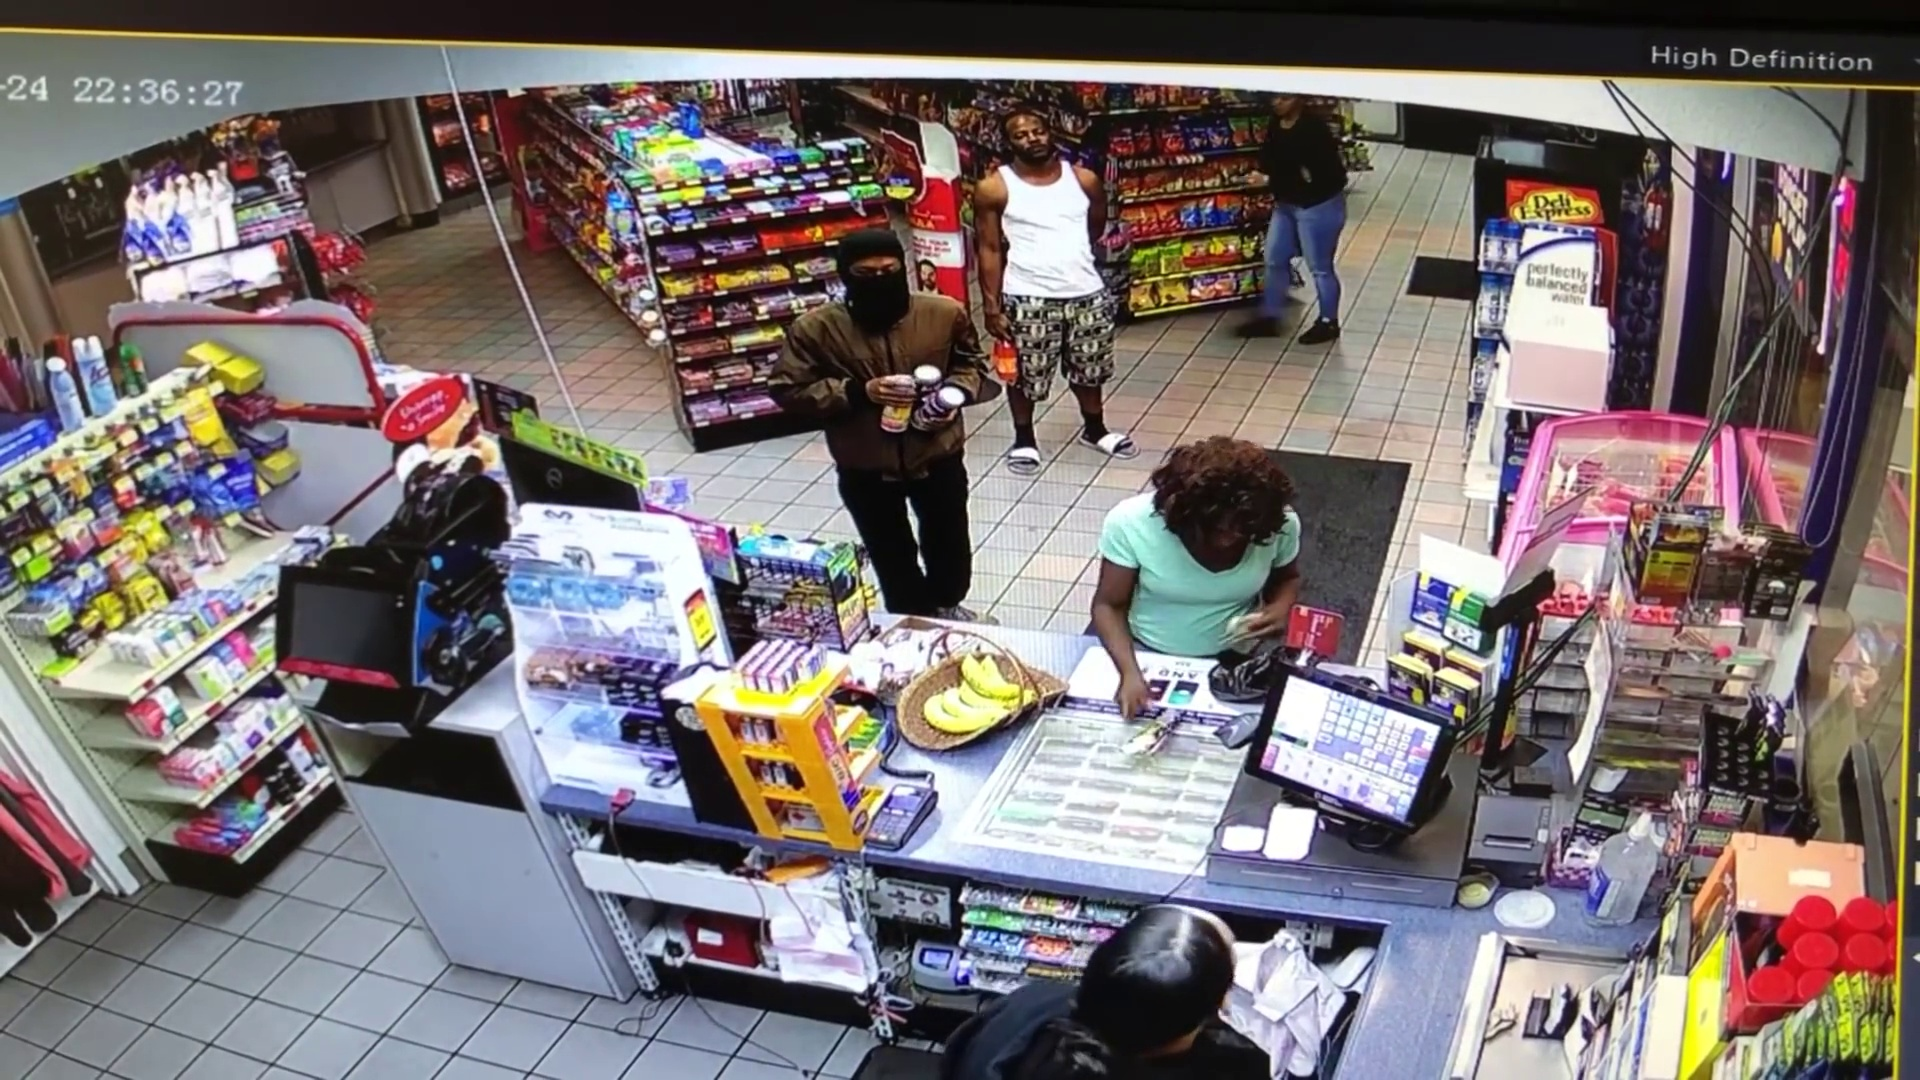face: (846, 251, 903, 301), (1010, 117, 1054, 161), (1265, 92, 1301, 119)
